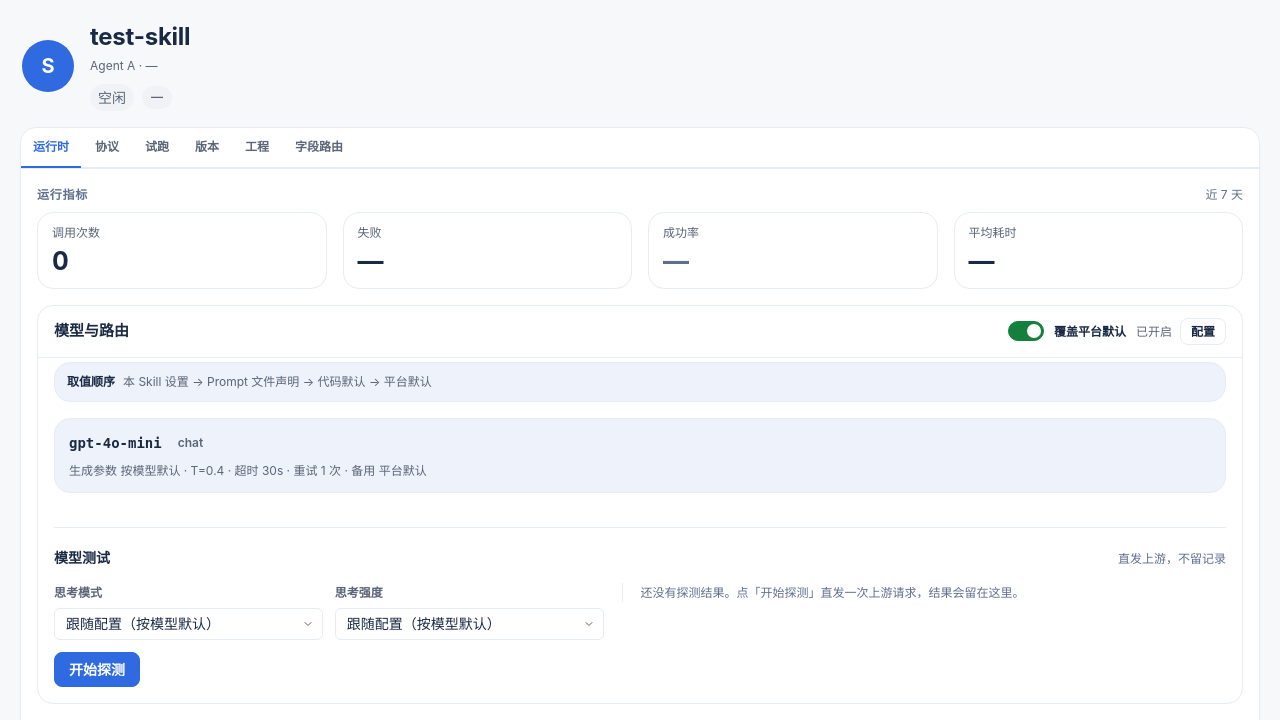
Test: Skill 详情页·设计能力平铺冒烟 › 字段路由 tab：血缘折叠块 + 向导组件同页
This screenshot has width=1280, height=720.
What coordinates should you click on to do the following:
click the tab with class "mk-subtab" showing "字段路由"
I would click on:
 (319, 148)
Its box is [283,128,355,168].
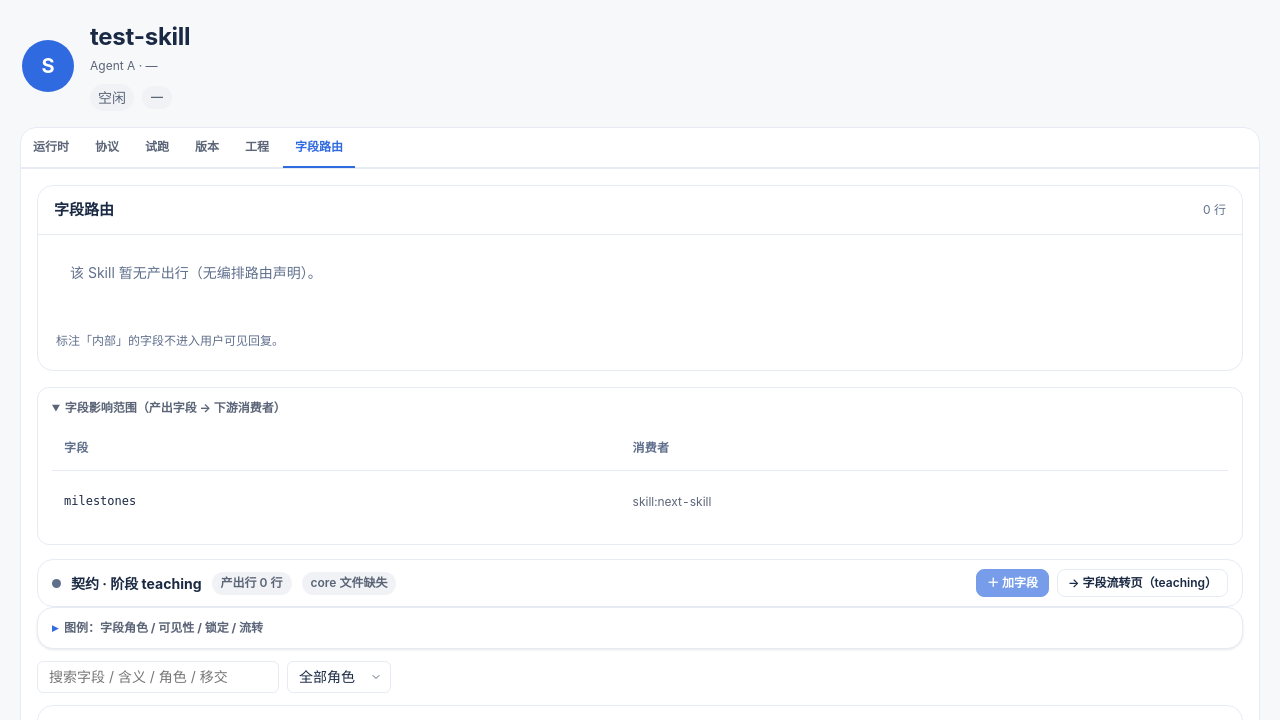
Expected: the element with class "sdp-routing__lineage" is shown, [37,387,1243,545]
Expected: the heading "字段影响范围（产出字段 → 下游消费者）" is shown, [65,400,286,415]
Expected: the text "milestones" is shown, [52,470,621,534]
